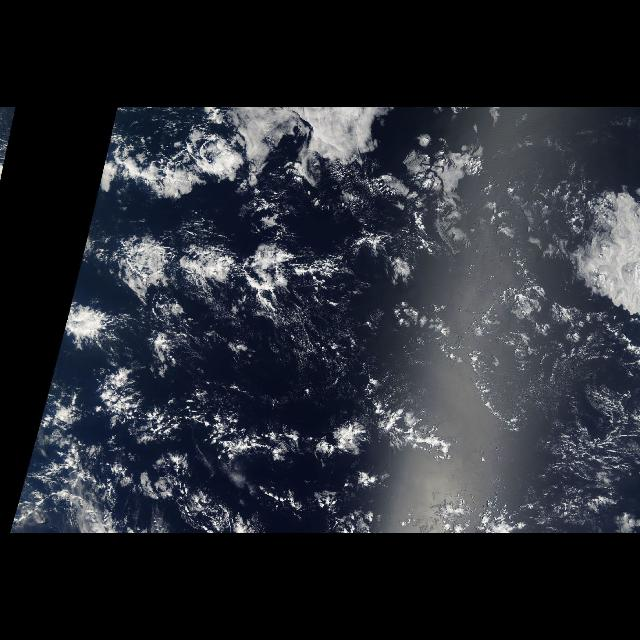Flower: (49, 108, 323, 384)
Sugar: (481, 352, 625, 484)
